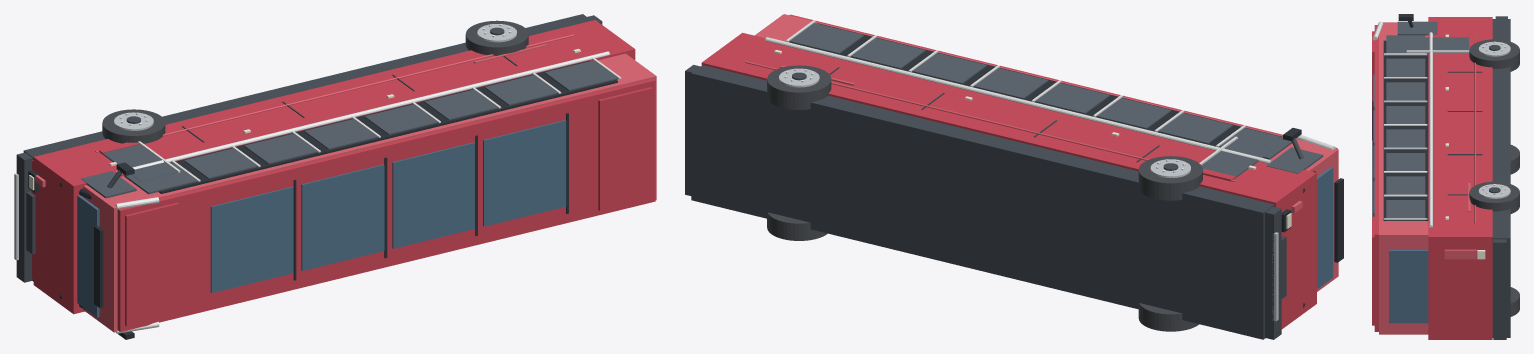
File: kapadokya_tourer_detailed.glb
3 renders of one model, left to right at view 1: azimuth 30°, elevation 25°; view 2: azimuth 150°, elevation 25°; view 3: azimuth 270°, elevation 25°, orthographic. The views are drawn at different scales.
Parts seen in each view (by area): view 1: Roof cap, Red lower body, Panoramic roof glass 1, Panoramic roof glass 2, Panoramic roof glass 4, Panoramic roof glass 3, Upper body shell, Roof front cap, Roof rear cap, Lower chassis, Side window backing 1, Upper side trim 1 (+19 smaller); view 2: Lower chassis, Red lower body, Upper body shell, Upper side trim 1, Side window backing 1, Front windshield, Front bumper, Tire axle2 side1, Tire axle1 side1, Front passenger door glass, Passenger window 1-3, Passenger window 1-4 (+16 smaller); view 3: Red lower body, Upper body shell, Lower chassis, Rear window, Side window backing 1, Roof cap, Rear bumper, Tire axle1 side1, Tire axle2 side1, Front passenger door glass, Passenger window 1-8, Upper side trim 1 (+21 smaller).
Part boxes in pixels (x1,y1,x2,y2): Roof cap: (117, 78, 655, 331); Red lower body: (33, 20, 635, 314); Panoramic roof glass 1: (210, 186, 293, 293); Panoramic roof glass 2: (301, 164, 384, 270); Panoramic roof glass 4: (483, 120, 566, 226); Panoramic roof glass 3: (392, 142, 475, 248); Upper body shell: (83, 53, 656, 332); Roof front cap: (125, 202, 179, 326); Roof rear cap: (598, 87, 652, 210); Lower chassis: (23, 14, 591, 281); Side window backing 1: (159, 60, 617, 193); Upper side trim 1: (115, 51, 609, 173); Lower chassis: (691, 65, 1274, 339); Red lower body: (701, 32, 1316, 329); Upper body shell: (754, 14, 1338, 291); Upper side trim 1: (765, 37, 1271, 163); Side window backing 1: (791, 23, 1282, 147); Front windshield: (1317, 167, 1333, 289); Front bumper: (1265, 207, 1281, 339); Tire axle2 side1: (767, 65, 831, 109); Tire axle1 side1: (1138, 156, 1202, 200); Front passenger door glass: (1201, 139, 1274, 177); Passenger window 1-3: (1096, 98, 1171, 129); Passenger window 1-4: (1035, 83, 1109, 114); Red lower body: (1428, 17, 1492, 339); Upper body shell: (1379, 22, 1428, 334); Lower chassis: (1492, 19, 1510, 337); Rear window: (1389, 250, 1428, 323); Side window backing 1: (1383, 40, 1428, 220); Roof cap: (1374, 25, 1378, 331); Rear bumper: (1493, 239, 1506, 339); Tire axle1 side1: (1469, 39, 1519, 71); Tire axle2 side1: (1469, 181, 1519, 213); Front passenger door glass: (1407, 37, 1468, 52); Passenger window 1-8: (1386, 200, 1425, 220); Upper side trim 1: (1429, 32, 1432, 227).
Bounding box in the file's own units: 12.11 × 3.37 × 3.34.
